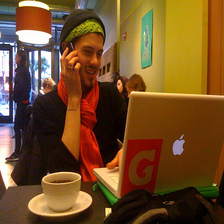laptop: (76, 87, 224, 216)
